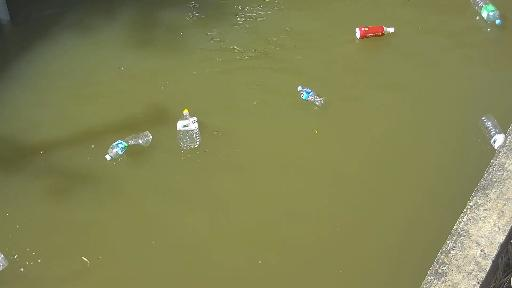plastic: (91, 130, 154, 174), (465, 104, 512, 152), (170, 109, 215, 154), (280, 79, 342, 104), (341, 24, 416, 39), (474, 0, 506, 35), (0, 246, 13, 275)
